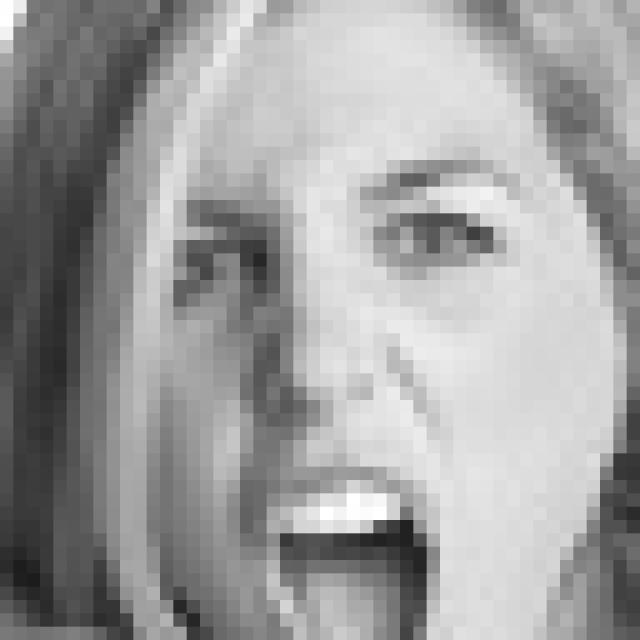angry: (164, 153, 536, 640)
